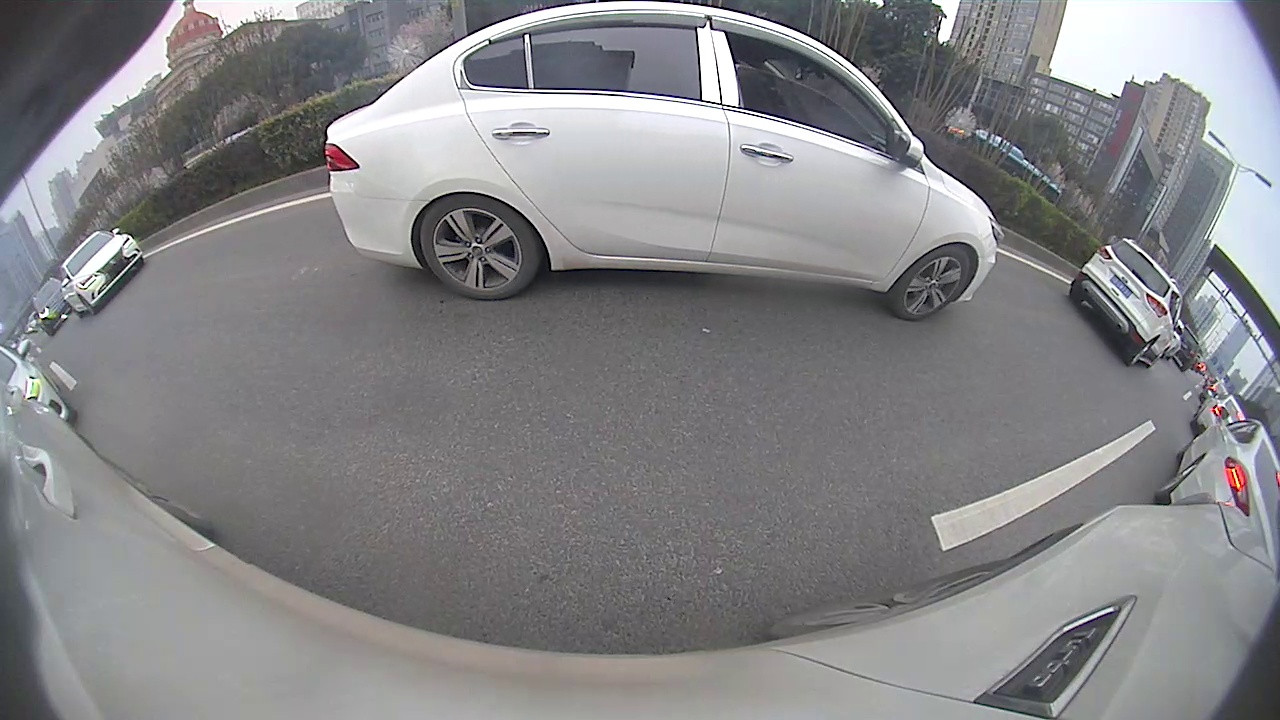car: (323, 3, 1002, 323), (1152, 406, 1279, 548), (1067, 236, 1185, 370), (57, 226, 147, 317)
front: (893, 245, 973, 322)
rear: (418, 193, 542, 302), (1130, 339, 1155, 367)
